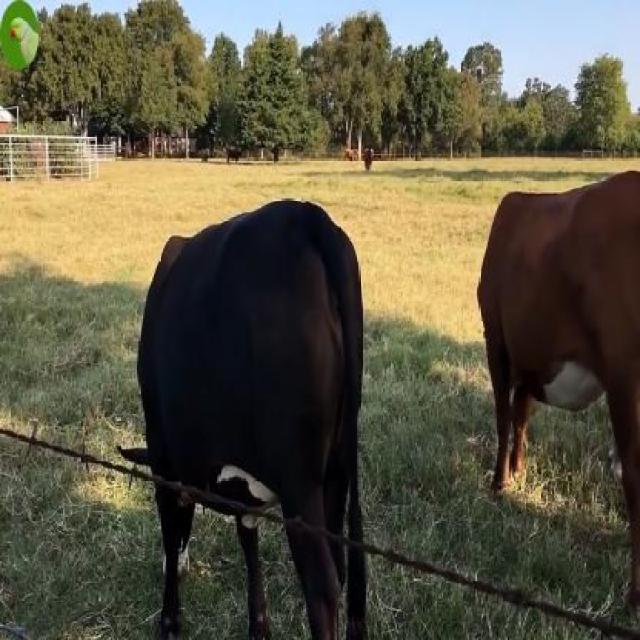Cow: (137, 200, 361, 638), (477, 172, 638, 598)
